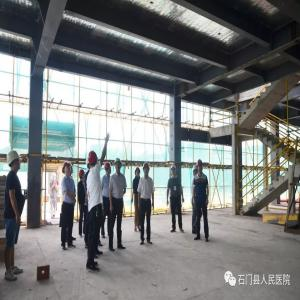red: (88, 150, 100, 168), (62, 161, 72, 177), (104, 162, 113, 177), (197, 160, 205, 174), (143, 163, 151, 177), (79, 168, 87, 182), (135, 168, 142, 179)
white: (7, 149, 24, 176), (115, 158, 123, 173), (170, 164, 178, 178), (192, 166, 199, 180), (51, 176, 56, 184)
